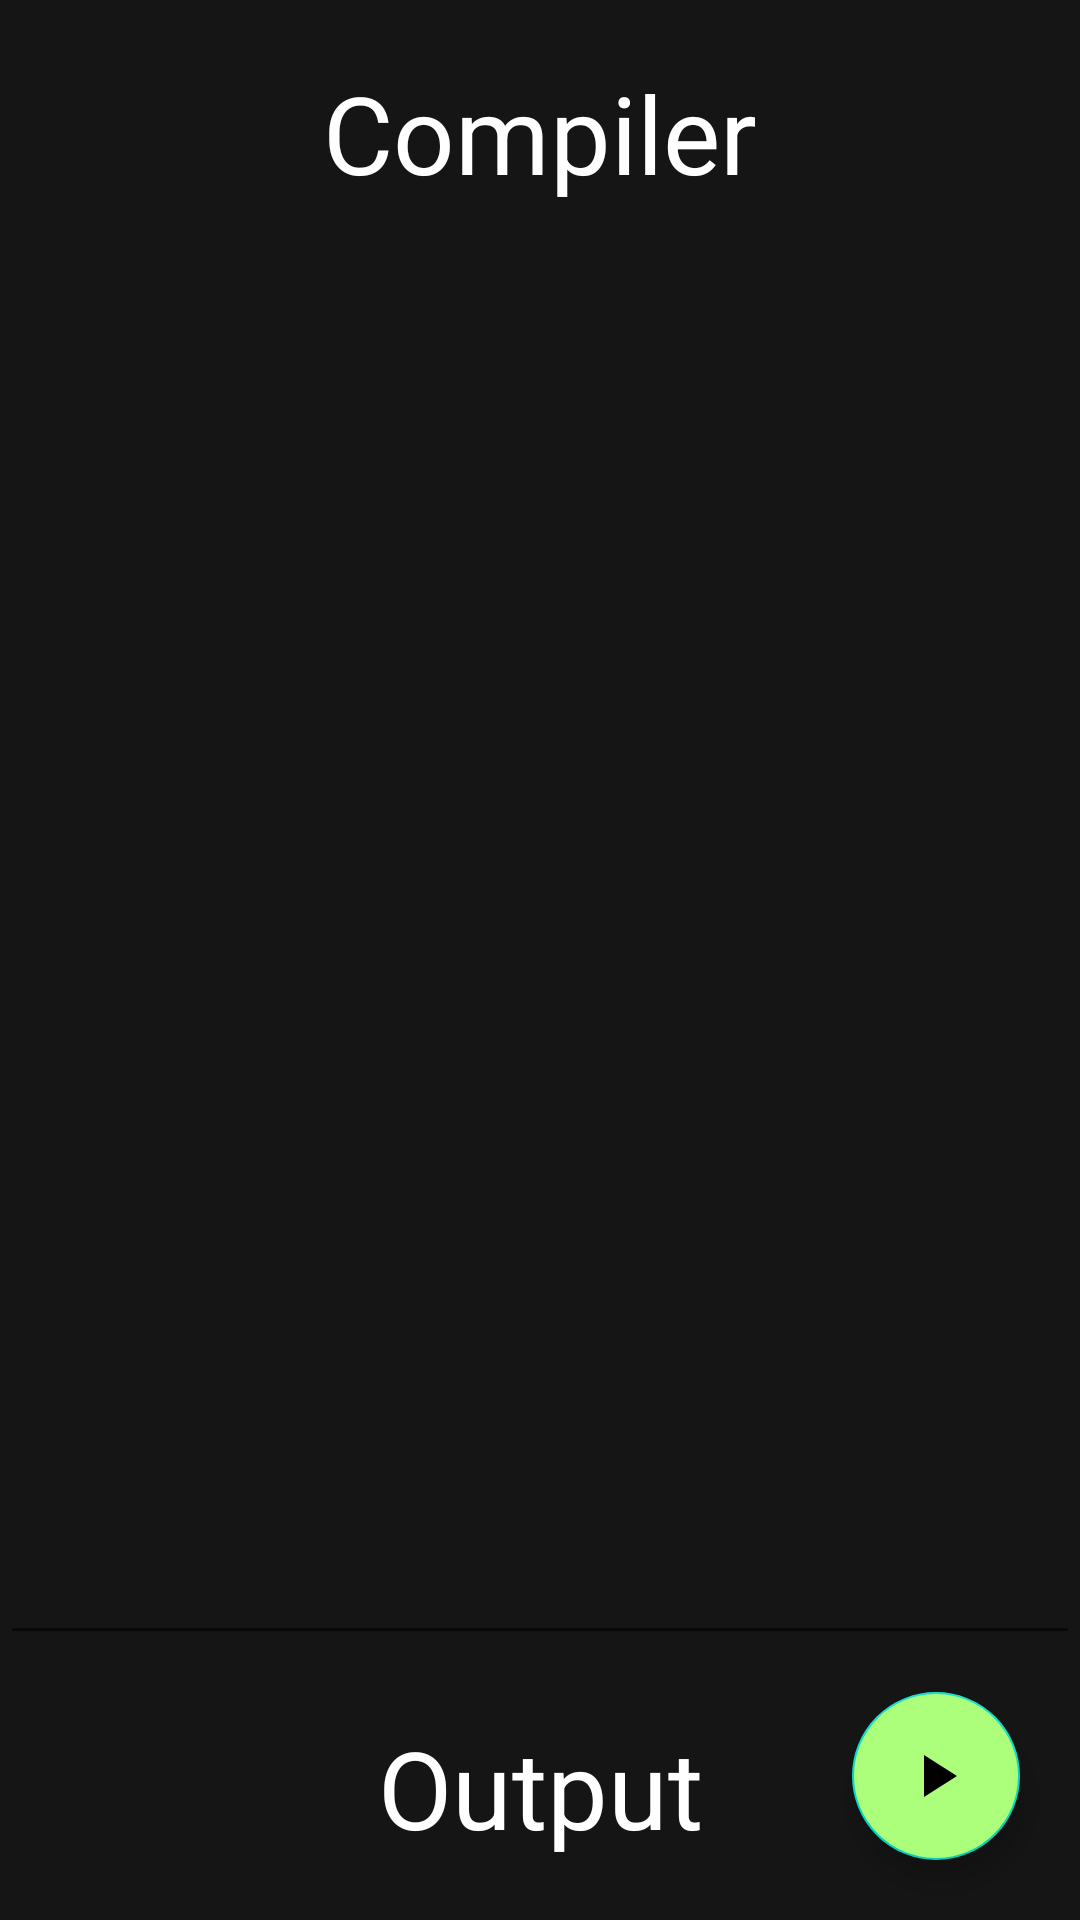

Icon bounding boxes for this 1080*1920 phone screenshot, format bbox(x1, y1, x2, y2):
run: bbox(852, 1692, 1020, 1860)
